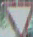Give way: (2, 0, 31, 35)
